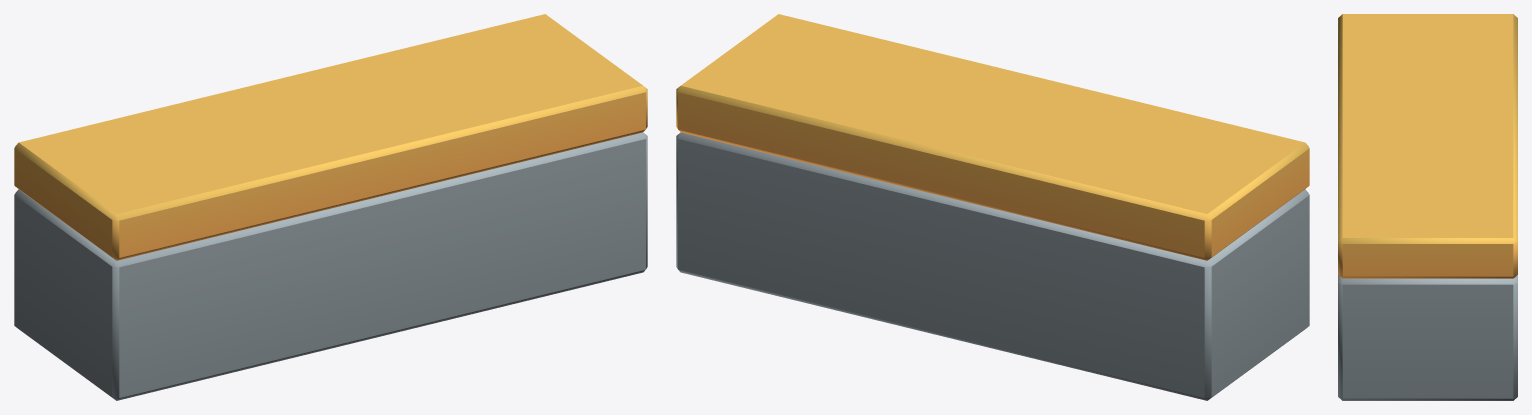
File: platform_6x2x2_yellow.glb
The picture shows the model from 3 angles, left to right: view 1: azimuth 30°, elevation 25°; view 2: azimuth 150°, elevation 25°; view 3: azimuth 270°, elevation 25°; orthographic projection. The views are drawn at different scales.
Parts seen in each view (by area): view 1: platform_6x2x2_yellow; view 2: platform_6x2x2_yellow; view 3: platform_6x2x2_yellow.
Boxes of the visible parts, left/top/right/bottom form: platform_6x2x2_yellow: left=14, top=14, right=647, bottom=400; platform_6x2x2_yellow: left=676, top=14, right=1309, bottom=400; platform_6x2x2_yellow: left=1338, top=14, right=1517, bottom=400.
Bounding box in the file's own units: 6 × 2 × 2.
1 material, 1 textured.
